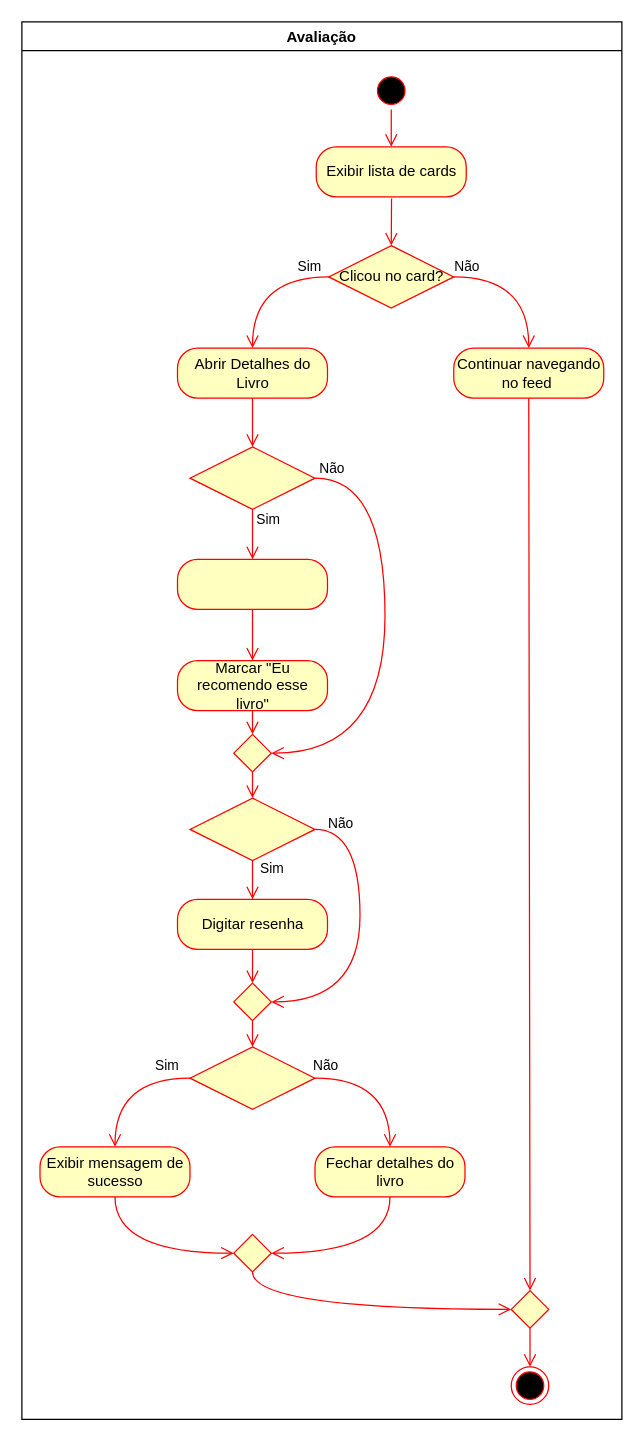
This 644x1441 diagram has some shape labels left out. The shapes that lost their labels are listed below. From the top down, each one's box as (x1, y1, x2, y2) in pixels, then its label:
(189, 446, 315, 509): Deseja avaliar?
(176, 558, 328, 609): Selecionar nota
(189, 797, 315, 861): Escrever resenha?
(189, 1046, 315, 1109): Submeter Avaliação?
